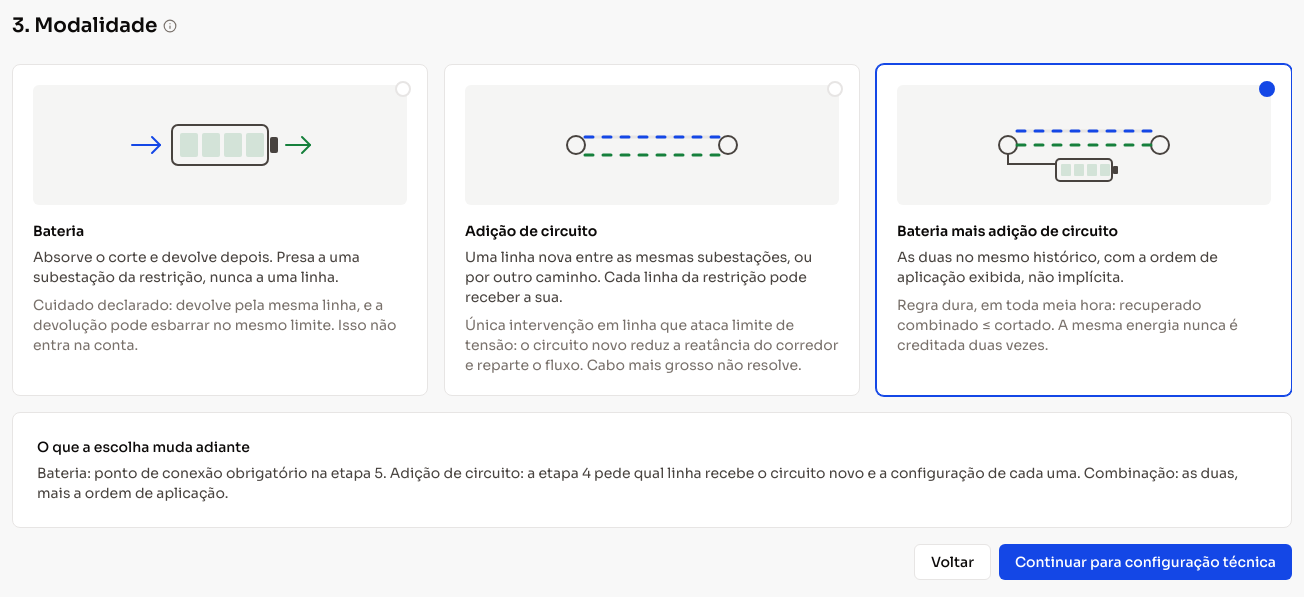
Test: step modality › explains the word "Modalidade" in a tooltip on the title
Focus the button named "Ajuda: Modalidade" at (170, 26), box [163, 19, 177, 33]
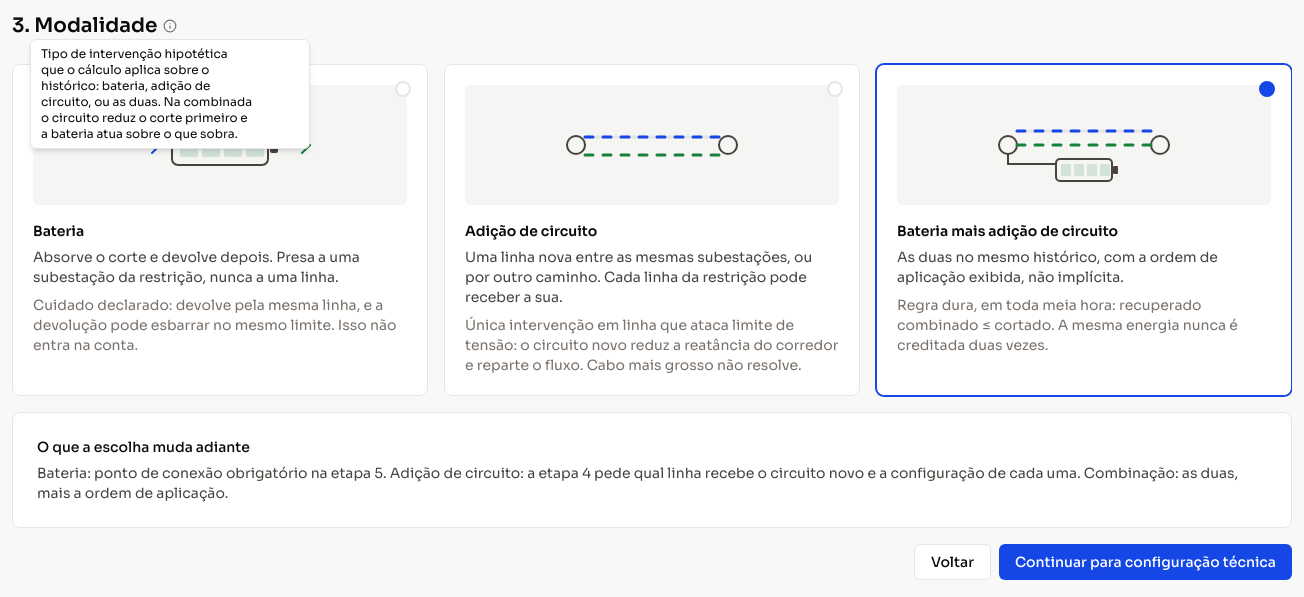
Now the tooltip shows "bateria, adição de", box [41, 46, 252, 141]
